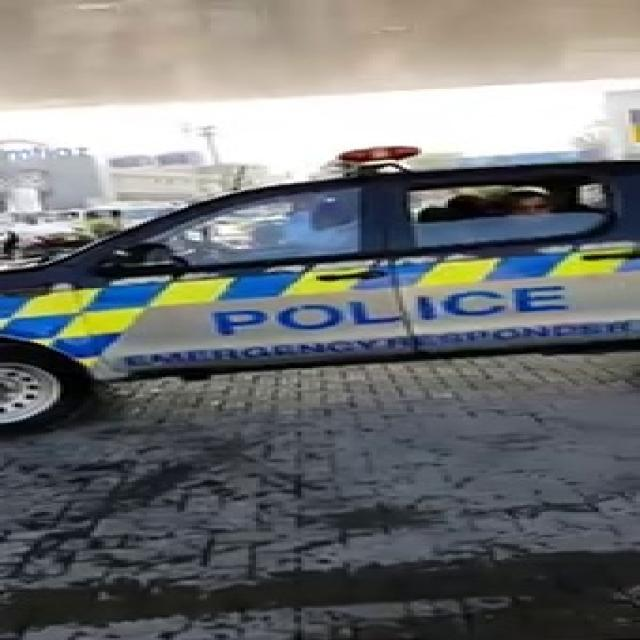police: (0, 129, 640, 384)
